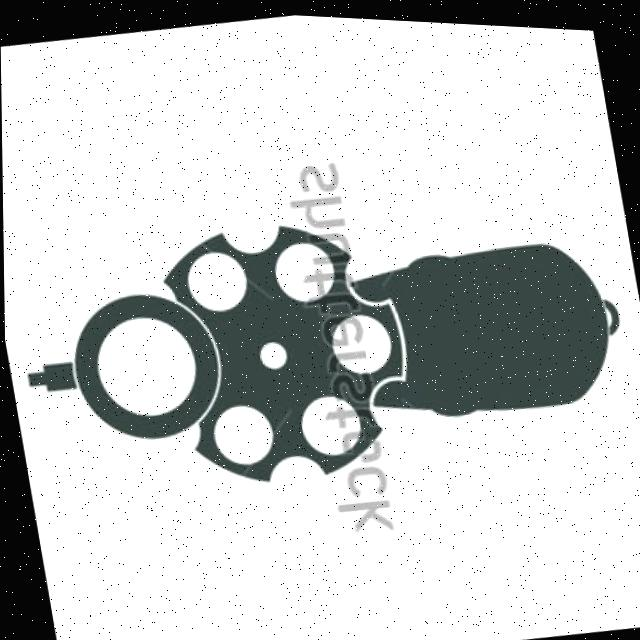pistol: (2, 157, 640, 532)
